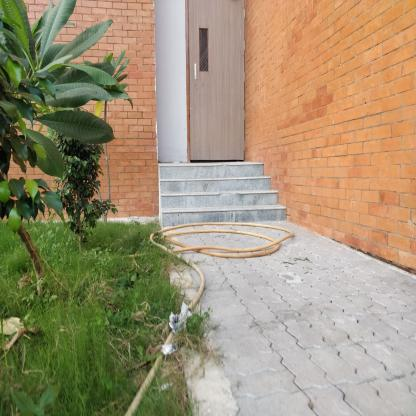stairs: (161, 166, 268, 231)
